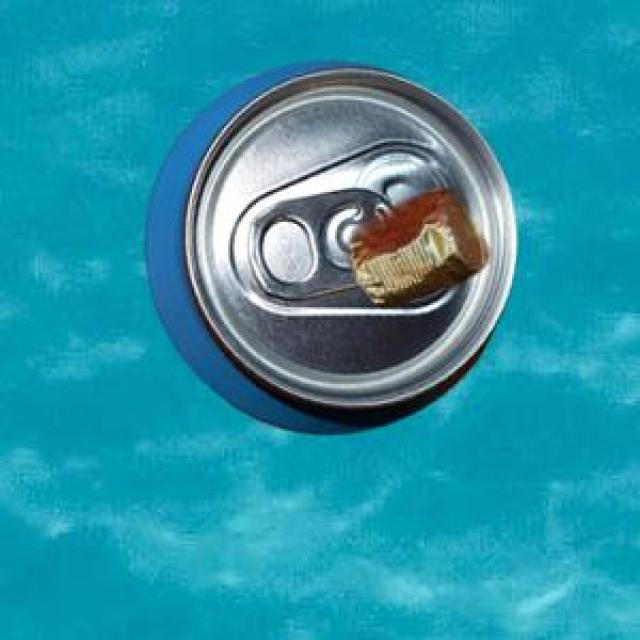logam: (142, 59, 513, 432), (347, 187, 485, 304)
